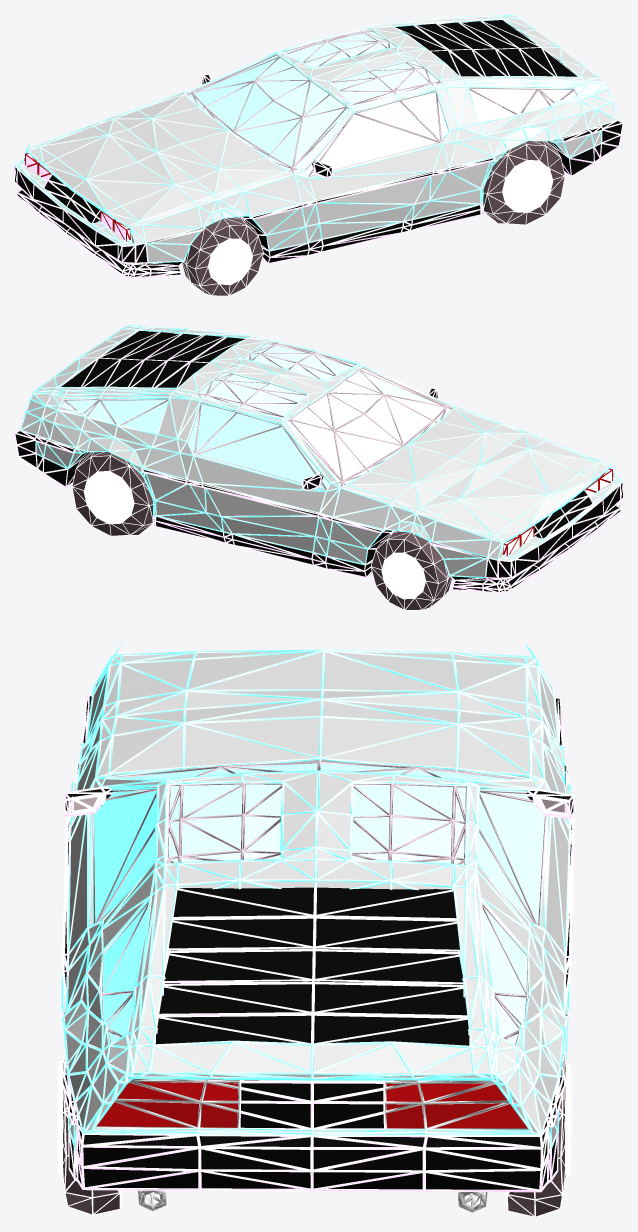
The model's file is deloreansilver.e3b8d301.glb.
The picture shows the model from 3 angles, top to bottom: view 1: azimuth 30°, elevation 25°; view 2: azimuth 150°, elevation 25°; view 3: azimuth 270°, elevation 25°; orthographic projection. The views are drawn at different scales.
Parts seen in each view (by area): view 1: Cube.000_Cube.005, Cylinder.003; view 2: Cube.000_Cube.005, Cylinder.003; view 3: Cube.000_Cube.005, Cylinder.003.
Part boxes in pixels (box(x1,y1,x2,y2)): Cube.000_Cube.005: box(14, 14, 623, 278); Cylinder.003: box(182, 141, 565, 296); Cube.000_Cube.005: box(14, 325, 623, 593); Cylinder.003: box(72, 452, 452, 610); Cube.000_Cube.005: box(59, 642, 577, 1212); Cylinder.003: box(57, 762, 573, 1217).
Size of the model in its own units: 3.65 by 1.03 by 1.64.
